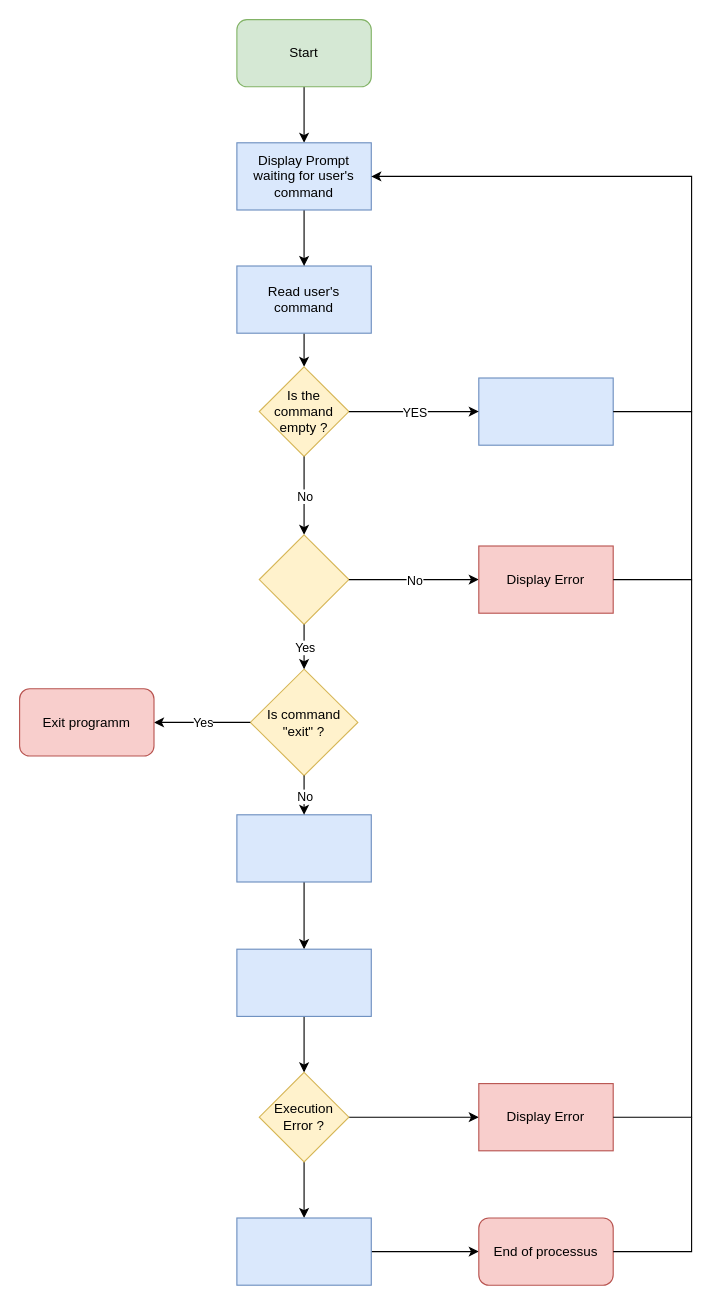
Image size: 720x1305. Some labels were removed from this diagram. Here are the shapes that lost their labels. From the top down, the centre of each, then its label:
At [545,411]: "display nothing".
At [303,579]: "Is the command valid ?".
At [303,848]: "Fork processus".
At [303,982]: "Use execve in forked processus".
At [303,1251]: "Wait end of forked processus to end".
